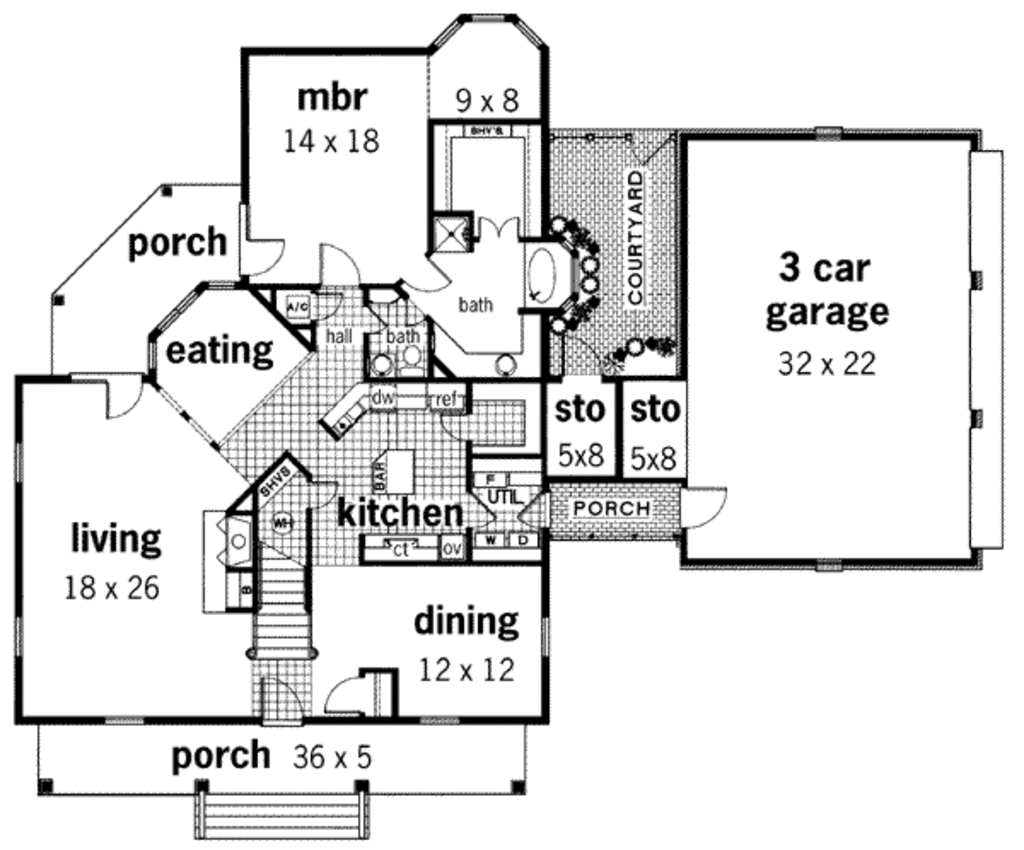door: (678, 486, 733, 529), (315, 238, 363, 287), (401, 256, 452, 298), (99, 375, 147, 416), (243, 234, 287, 274), (323, 672, 363, 713), (477, 211, 524, 239)
kitchen_bar: (369, 448, 416, 495)
stairs: (251, 542, 317, 660)
tub: (523, 240, 565, 305)
windows: (536, 609, 553, 658)
